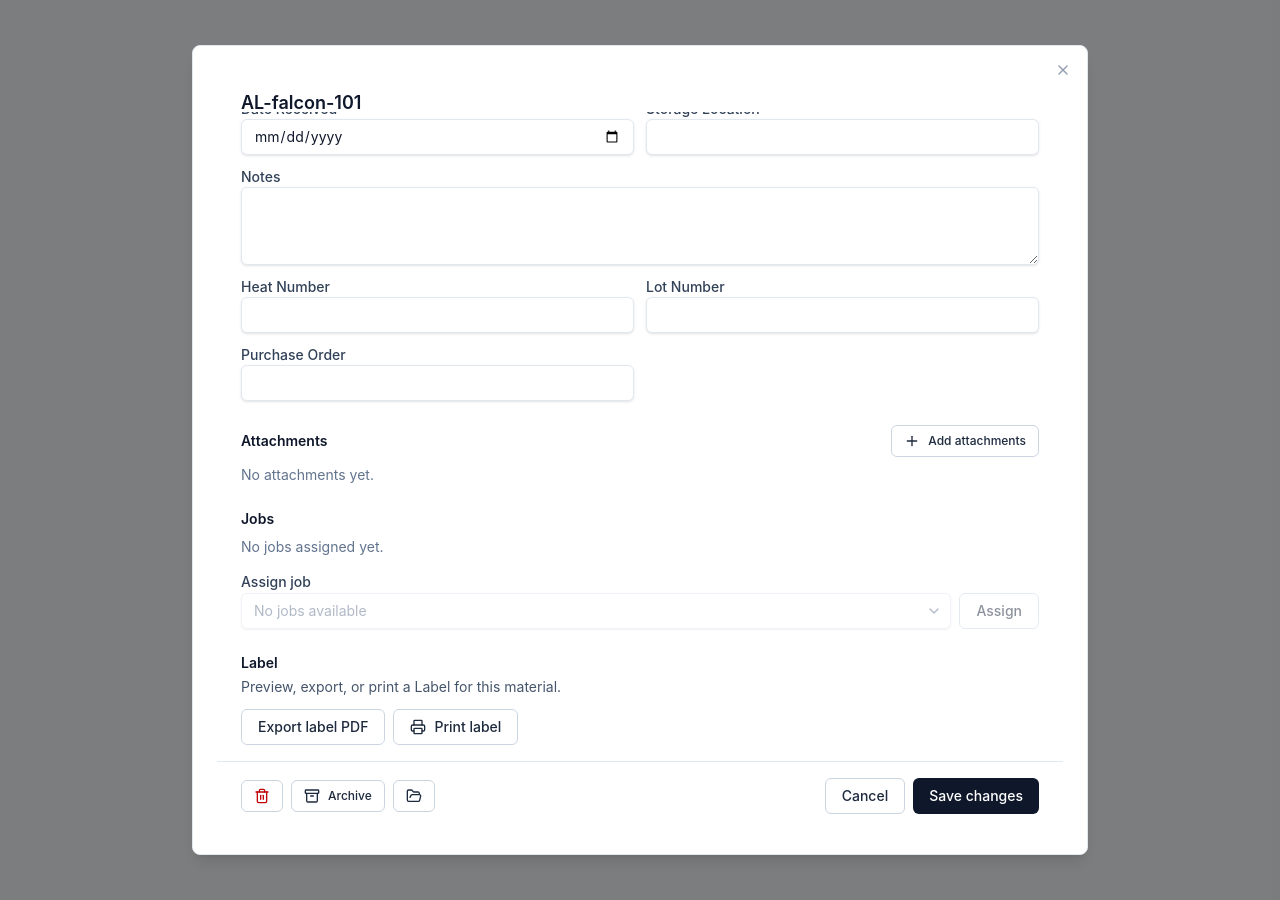
Test: MaterialDetailPanel label preview hub › opens the Label preview from Print without printing from detail
(page scrolled)
Click the button "Print label". click: (456,727)
box: left=394, top=709, right=518, bottom=745
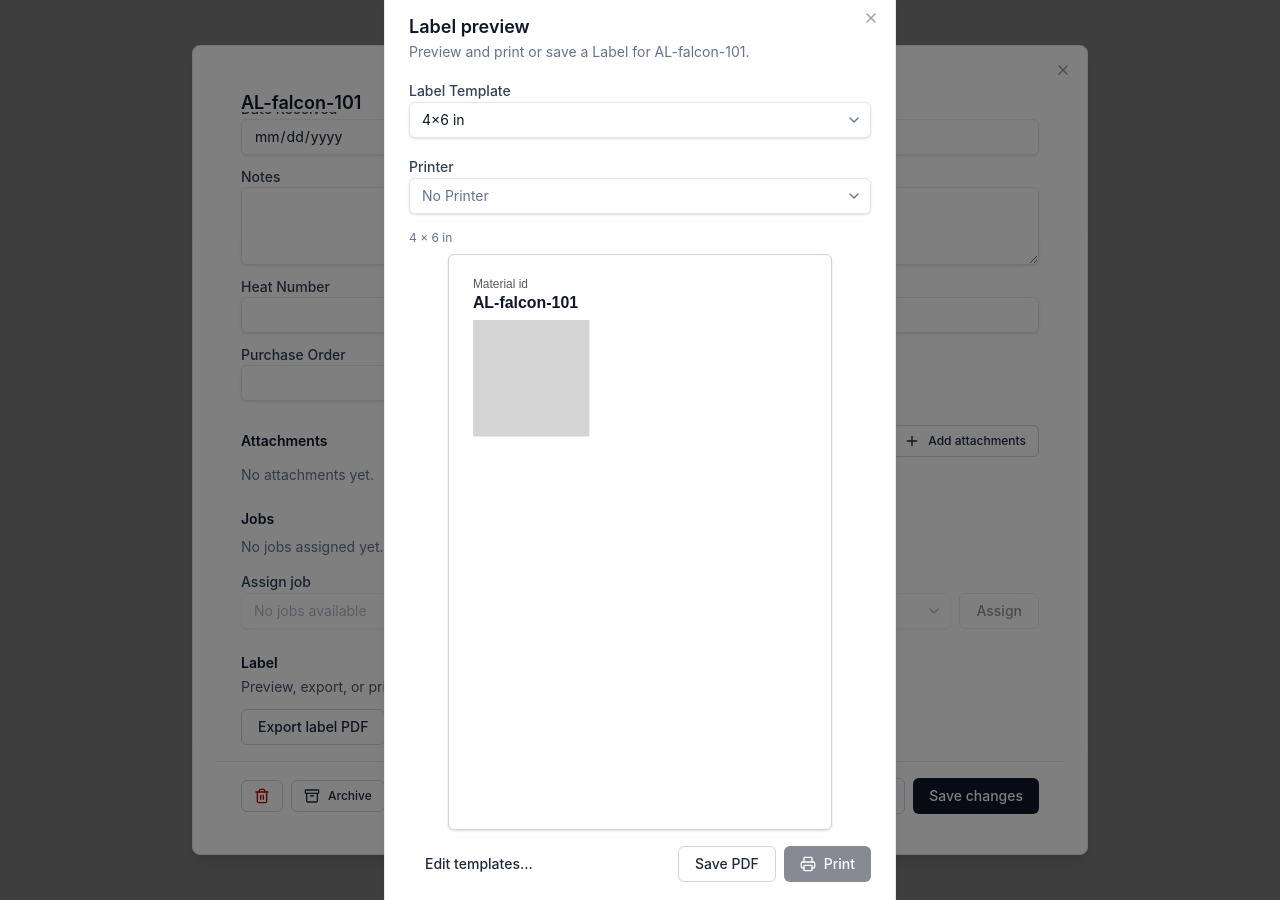
Result: the heading "Label preview" is shown at left=409, top=16, right=530, bottom=37
